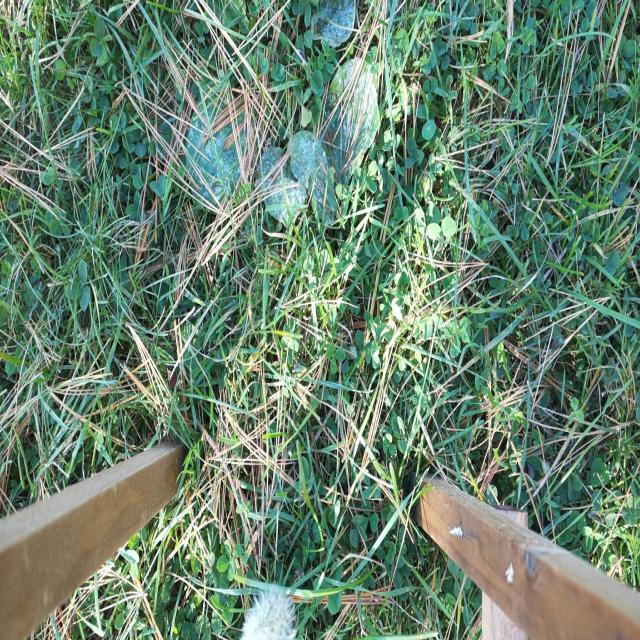flower: (242, 586, 296, 640)
